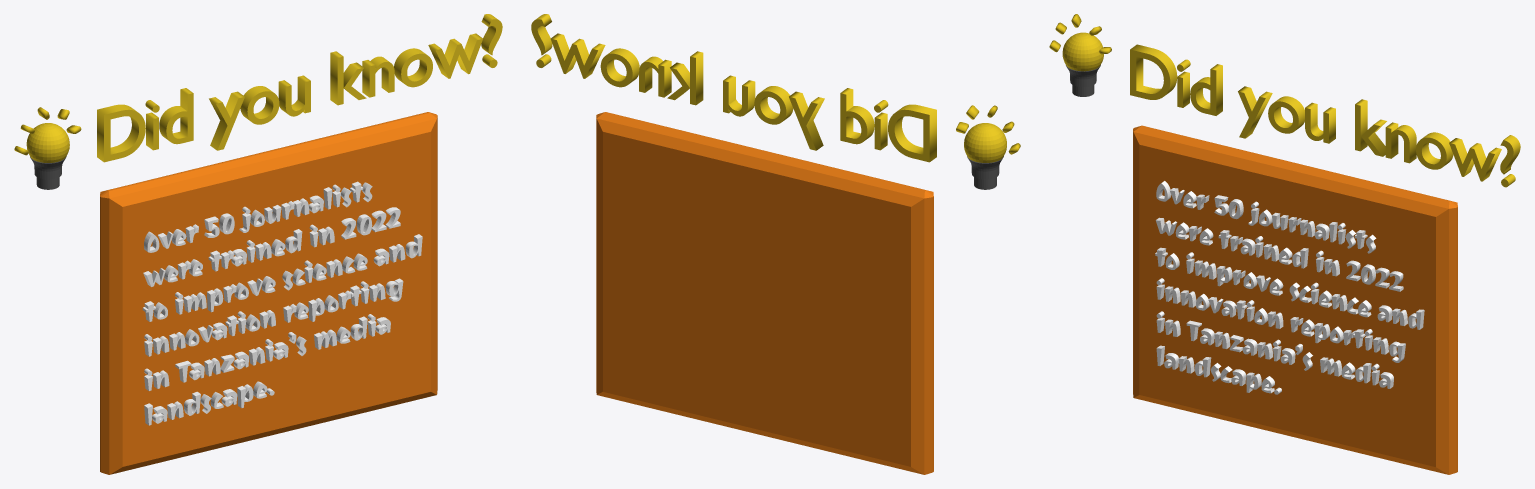
Rendered from did you know fact04.glb.
The picture shows the model from 3 angles, left to right: view 1: azimuth 30°, elevation 25°; view 2: azimuth 150°, elevation 25°; view 3: azimuth 330°, elevation 25°; orthographic projection. The views are drawn at different scales.
Parts seen in each view (by area): view 1: QnSlab, Curve.005, Text, bulb; view 2: QnSlab, Text, bulb; view 3: QnSlab, Curve.005, Text, bulb.
Boxes of the visible parts, <box> form: QnSlab: <box>100,112,437,474</box>; Curve.005: <box>142,181,422,425</box>; Text: <box>97,14,502,162</box>; bulb: <box>26,123,69,189</box>; QnSlab: <box>596,112,933,474</box>; Text: <box>531,14,936,162</box>; bulb: <box>964,123,1006,189</box>; QnSlab: <box>1133,125,1457,474</box>; Curve.005: <box>1155,181,1424,394</box>; Text: <box>1130,44,1520,187</box>; bulb: <box>1062,32,1103,96</box>.
Bounding box in the file's own units: 0.6399 × 0.484 × 0.0517.
